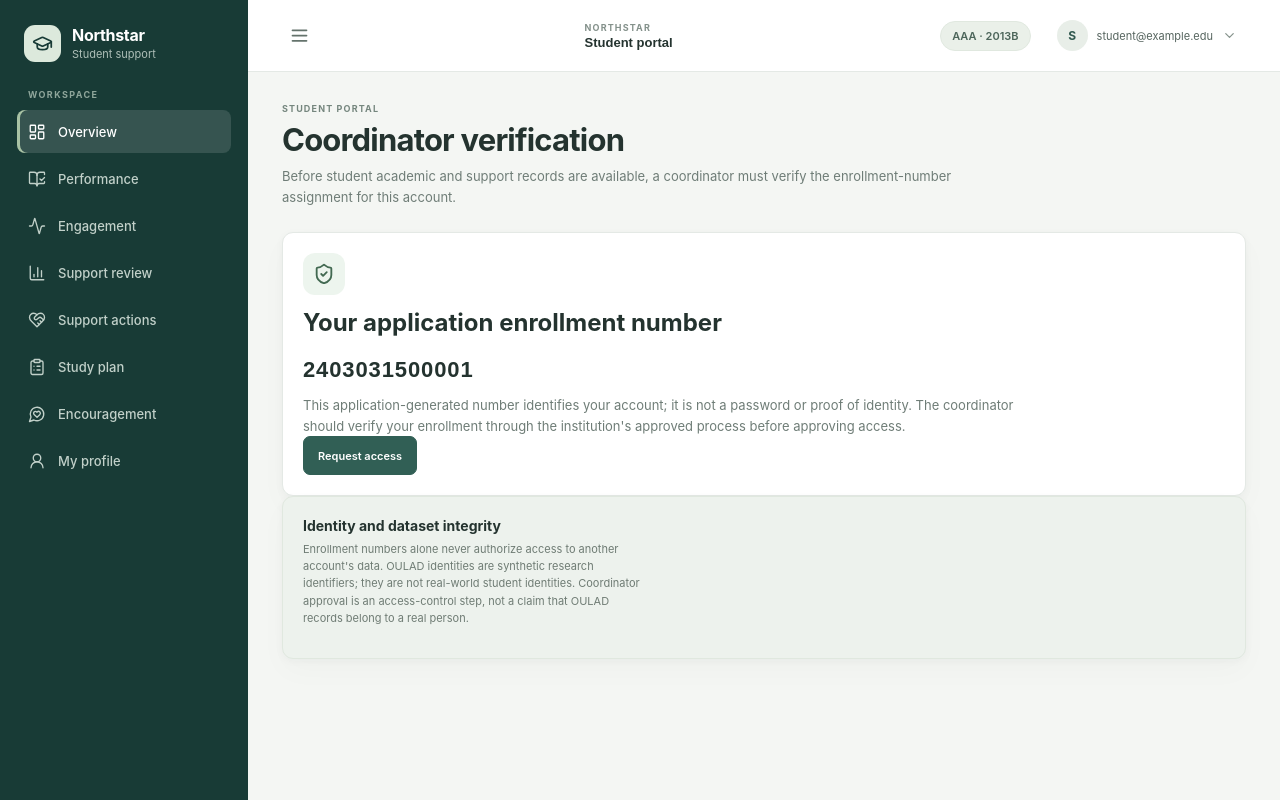
Test case: student and coordinator frontend flows › keeps unapproved student records gated until a coordinator verifies access
Check: the heading "Coordinator verification" is shown, box [282,121,624,158]
Click the button "Request access".
click(360, 456)  # box [303,436,417,475]
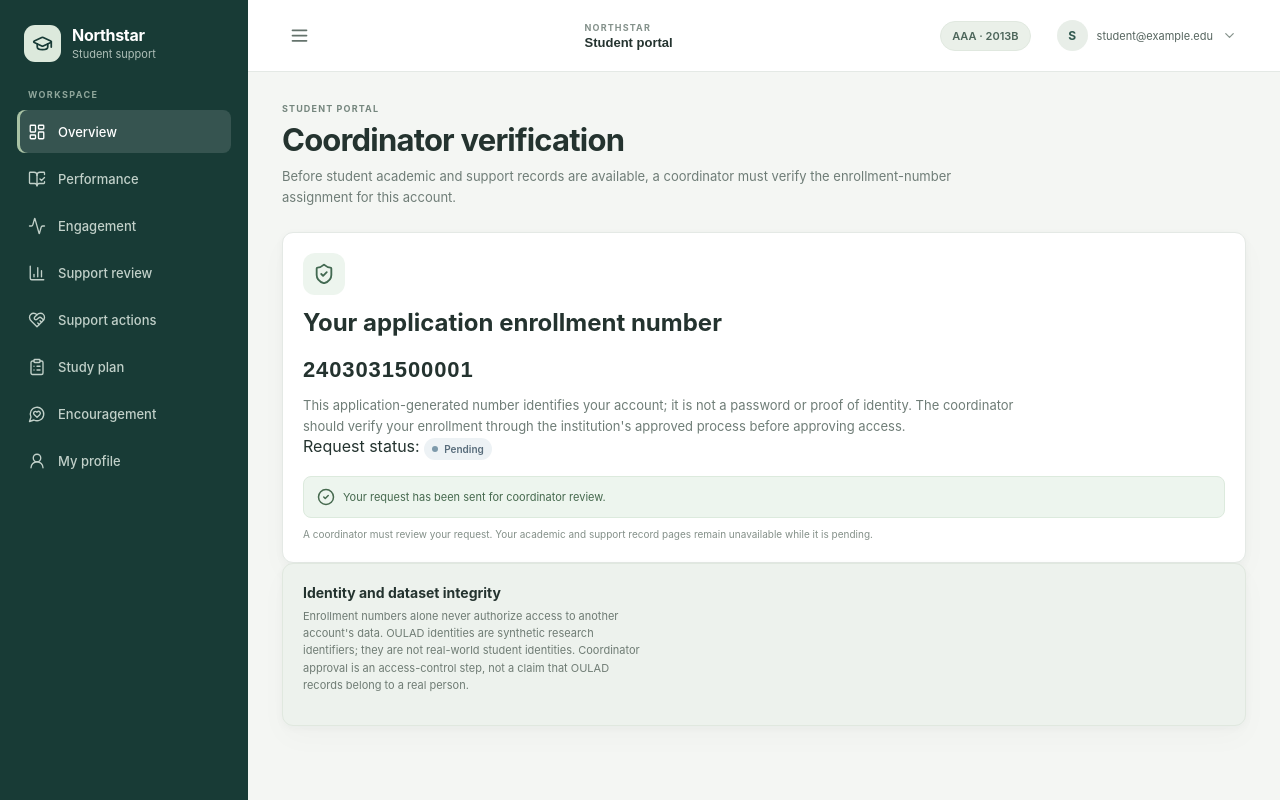
Check: the text "Your request has been sent for coordinator review." is shown, box [303,476,1225,518]
Check: the text "academic and support record pages remain unavailable" is shown, box [303,528,873,540]
